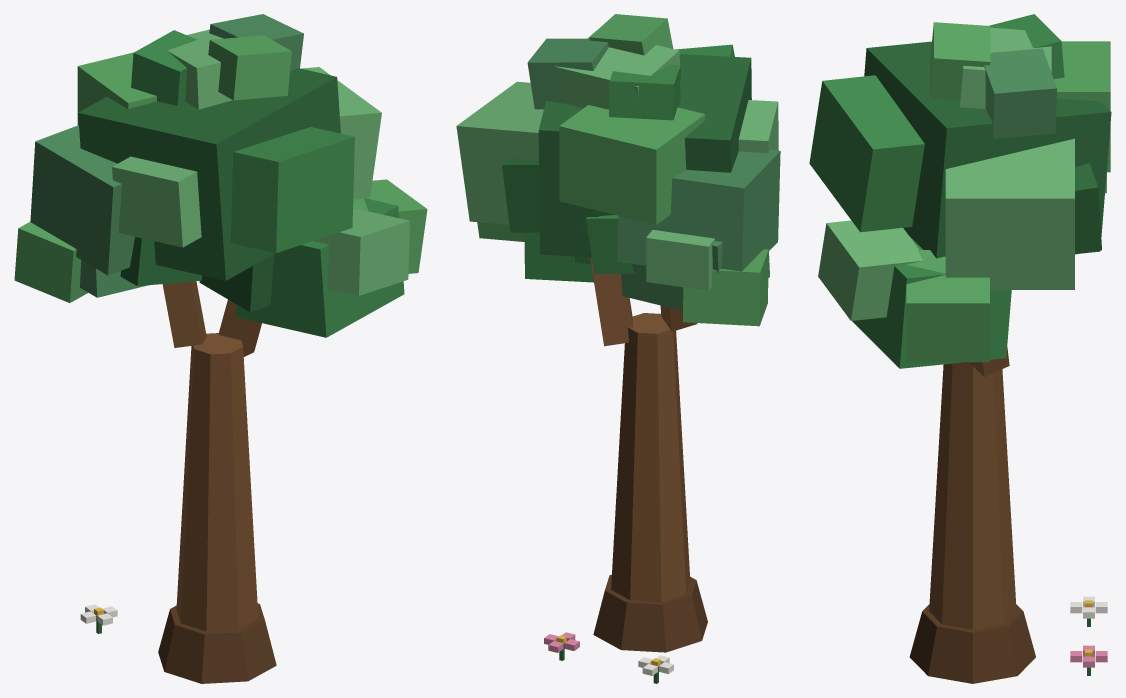
File: vn_nature_oak_tree.glb
3 views of the same model, side by side, from view 1: azimuth 30°, elevation 25°; view 2: azimuth 150°, elevation 25°; view 3: azimuth 270°, elevation 25° (orthographic). The views are drawn at different scales.
Parts seen in each view (by area): view 1: oak_leaves, oak_trunk; view 2: oak_leaves, oak_trunk; view 3: oak_leaves, oak_trunk.
Boxes of the visible parts, <box> form: oak_leaves: <box>14,14,427,633</box>; oak_trunk: <box>158,281,276,683</box>; oak_leaves: <box>456,14,780,683</box>; oak_trunk: <box>590,257,707,652</box>; oak_leaves: <box>809,14,1111,675</box>; oak_trunk: <box>909,347,1035,683</box>.
Bounding box in the file's own units: 1.89 × 3.32 × 1.43.
